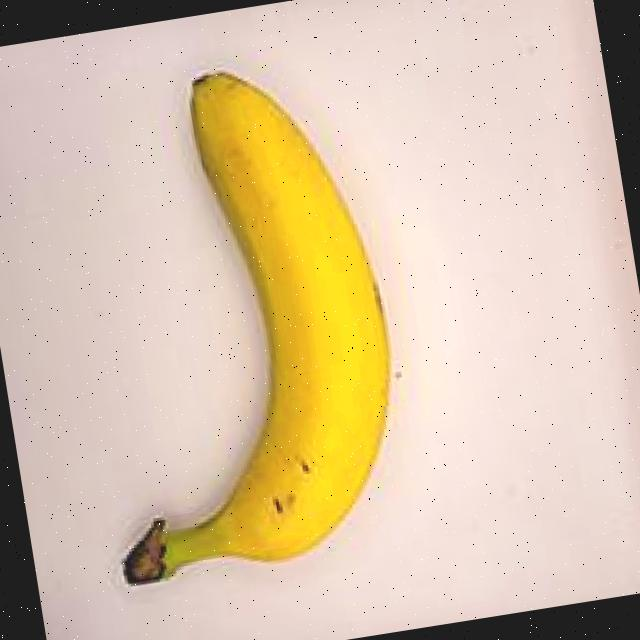Ripe: (34, 21, 451, 608)
